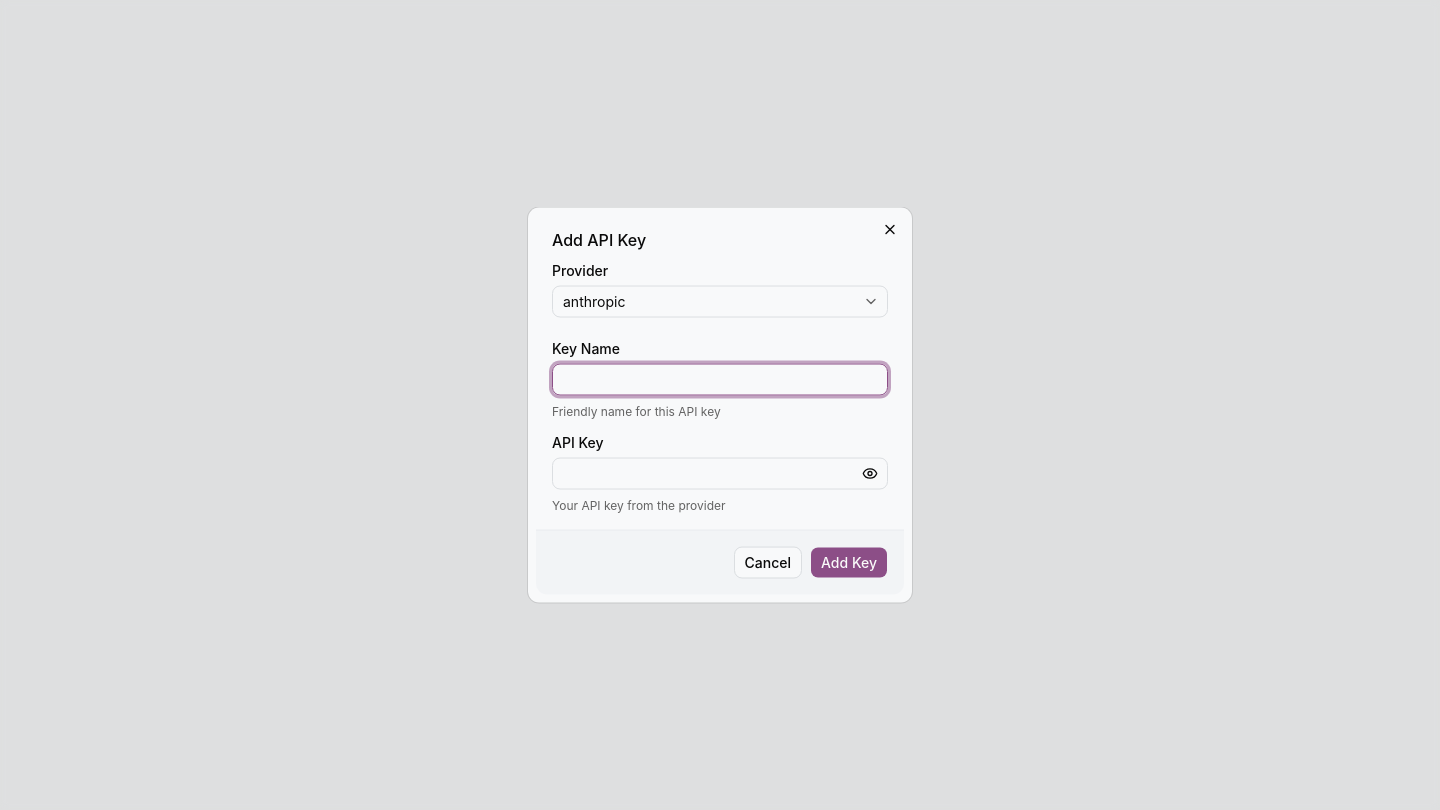
Test: ApiKeyDialog › Create Mode › shows error on submission failure
The width and height of the screenshot is (1440, 810).
Check: the dialog is shown, box [528, 208, 912, 602]
Type "Test Key" into the field labelled "Key Name".
click(720, 380); type("Test Key")  # box [552, 364, 888, 396]
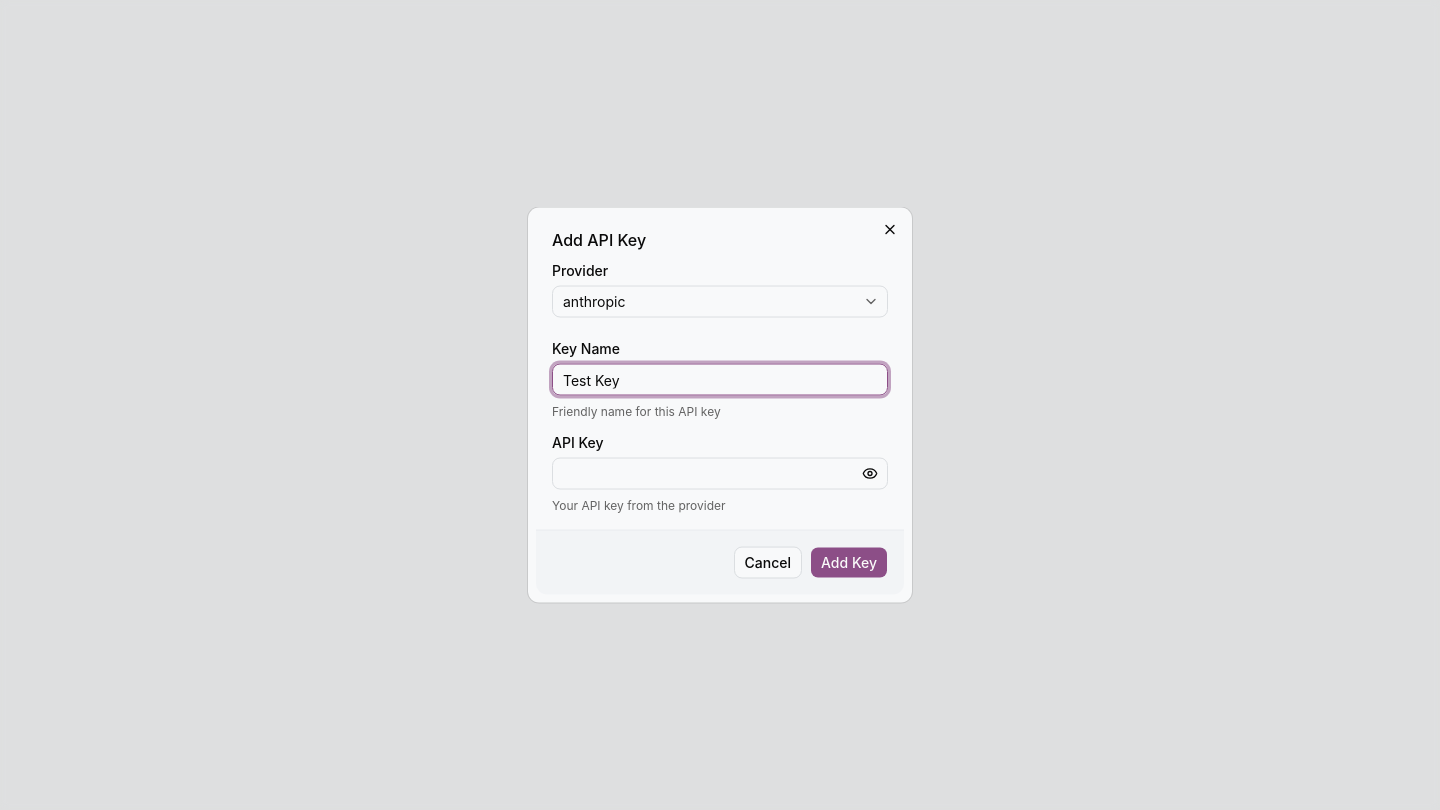
Type "invalid-key" into the password field labelled "API Key".
click(720, 474); type("invalid-key")  # box [552, 458, 888, 490]
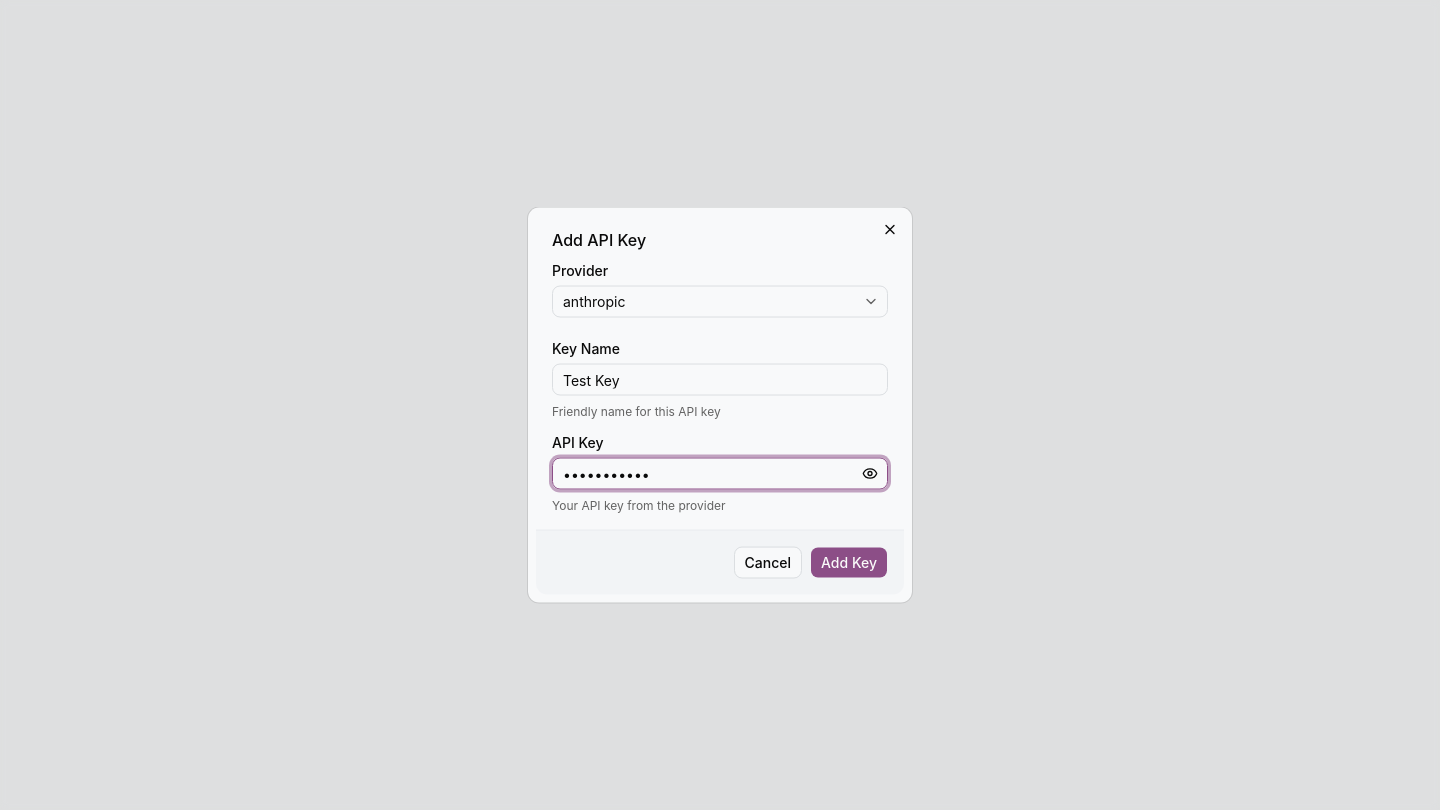
// Submit form
Submit the form named "add key", box [552, 232, 888, 578]
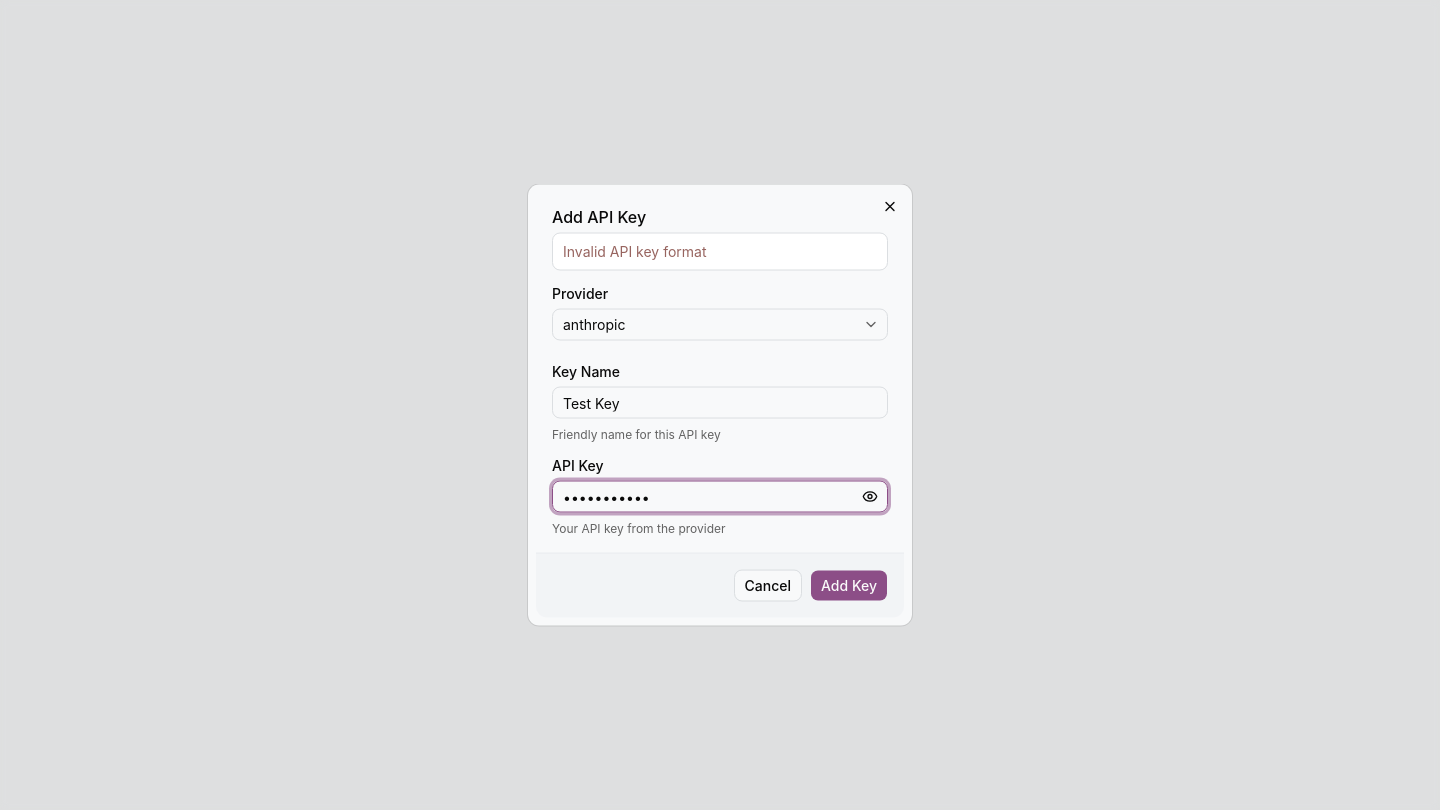
Check: the text "Invalid API key format" is shown, box [563, 242, 706, 260]
